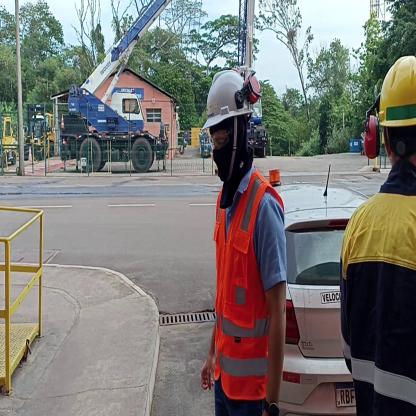Balaclava: (207, 120, 254, 191)
C_eletrica: (338, 196, 416, 416)
Capacete: (365, 47, 416, 142), (199, 65, 259, 123)
colete: (212, 188, 276, 396)
